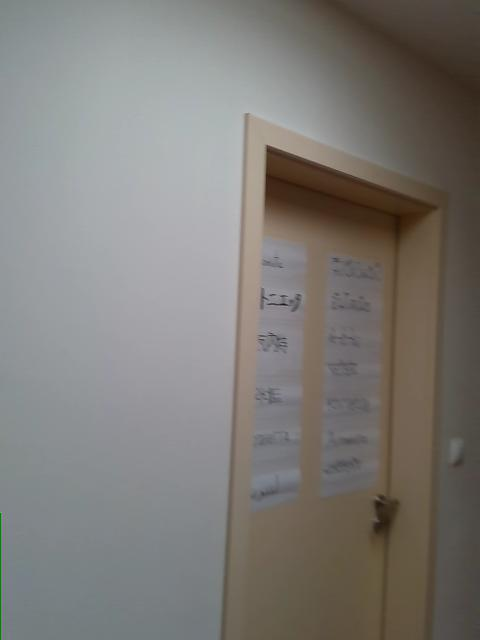door: (251, 199, 402, 639)
